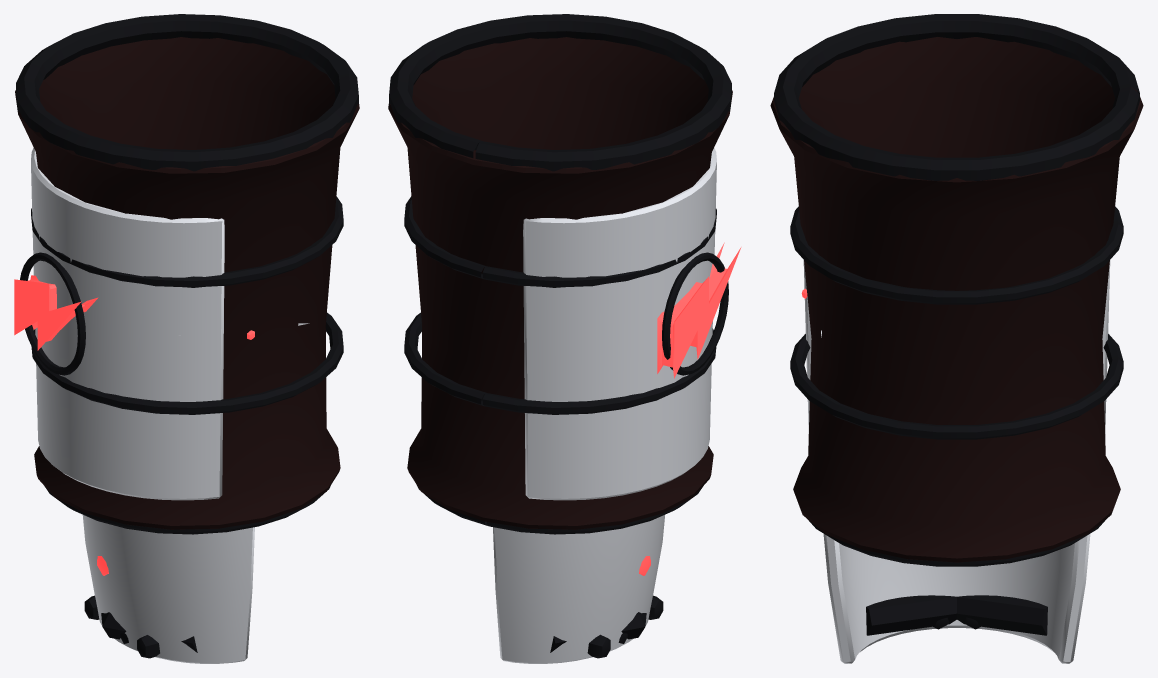
The model's file is esc_severance_gloves_R.glb.
The picture shows the model from 3 angles, left to right: view 1: azimuth 30°, elevation 25°; view 2: azimuth 150°, elevation 25°; view 3: azimuth 270°, elevation 25°; orthographic projection. The views are drawn at different scales.
Parts seen in each view (by area): view 1: esc_severance_gloves, AT_hand_R; view 2: esc_severance_gloves, AT_hand_R; view 3: esc_severance_gloves, AT_hand_R.
Part boxes in pixels (box(x1,y1,x2,y2)): esc_severance_gloves: box(14, 14, 359, 534); AT_hand_R: box(82, 515, 254, 663); esc_severance_gloves: box(388, 14, 741, 534); AT_hand_R: box(493, 515, 664, 663); esc_severance_gloves: box(770, 14, 1143, 566); AT_hand_R: box(823, 534, 1090, 663).
Size of the model in its own units: 0.1971 by 0.3408 by 0.2004.
